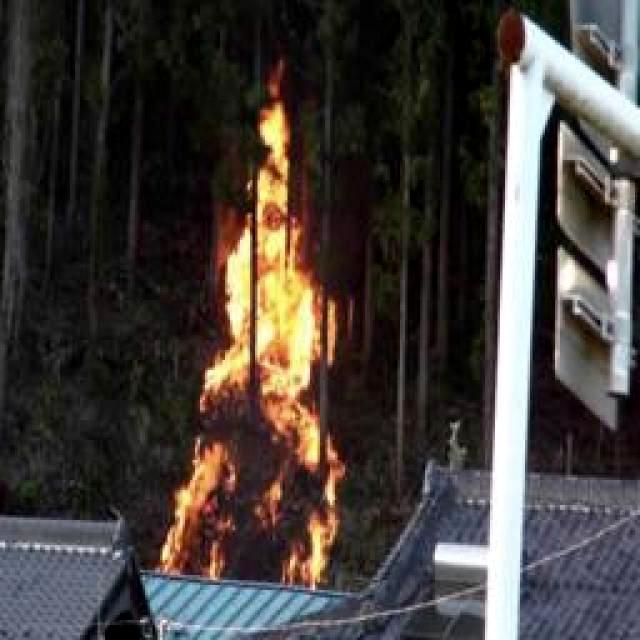fire: (162, 61, 346, 594)
